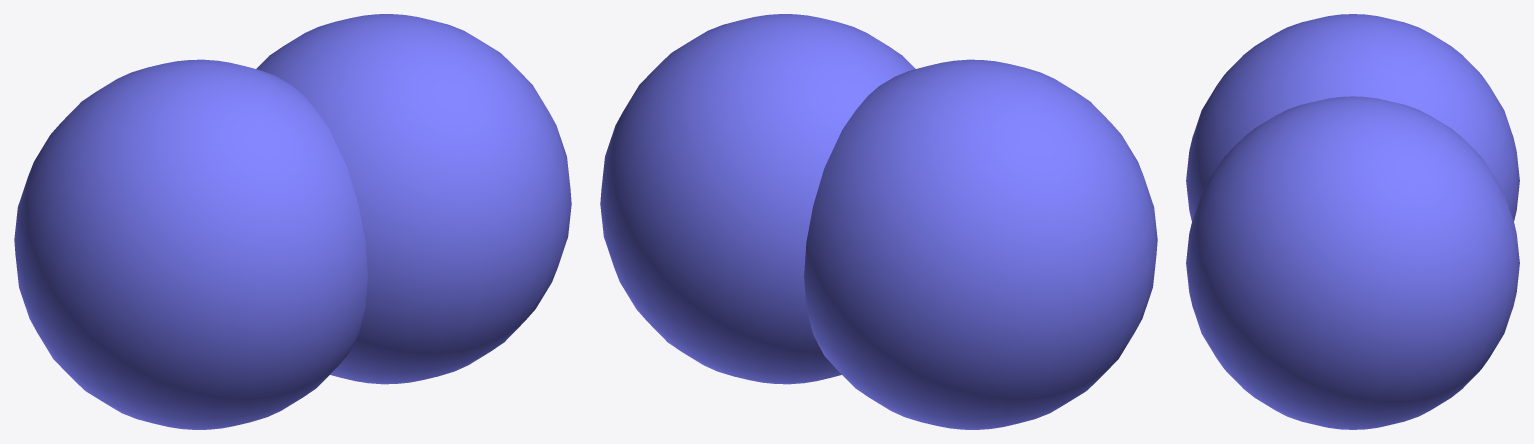
File: s053 4.03a překryv s-s.glb
3 renders of one model, left to right at view 1: azimuth 30°, elevation 25°; view 2: azimuth 150°, elevation 25°; view 3: azimuth 270°, elevation 25°, orthographic. The views are drawn at different scales.
Parts seen in each view (by area): view 1: Sphere_Sphere.001, Sphere_Sphere.002; view 2: Sphere_Sphere.001, Sphere_Sphere.002; view 3: Sphere_Sphere.002, Sphere_Sphere.001.
Part boxes in pixels (x1,y1,x2,y2): Sphere_Sphere.001: [14, 59, 367, 429]; Sphere_Sphere.002: [256, 14, 571, 384]; Sphere_Sphere.001: [804, 59, 1157, 429]; Sphere_Sphere.002: [600, 14, 915, 384]; Sphere_Sphere.002: [1186, 96, 1519, 429]; Sphere_Sphere.001: [1186, 14, 1519, 220].
Bounding box in the file's own units: 3.17 × 2 × 2.
